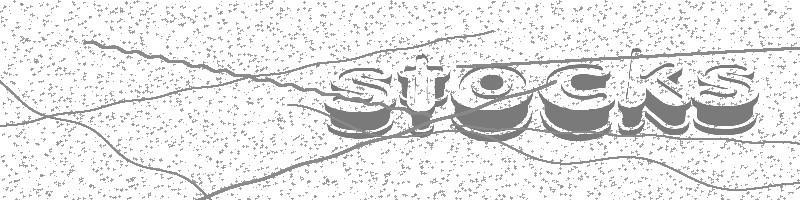c: (532, 53, 614, 147)
k: (612, 42, 695, 147)
o: (448, 59, 538, 146)
s: (318, 59, 401, 141), (692, 60, 761, 143)
t: (394, 47, 452, 144)
